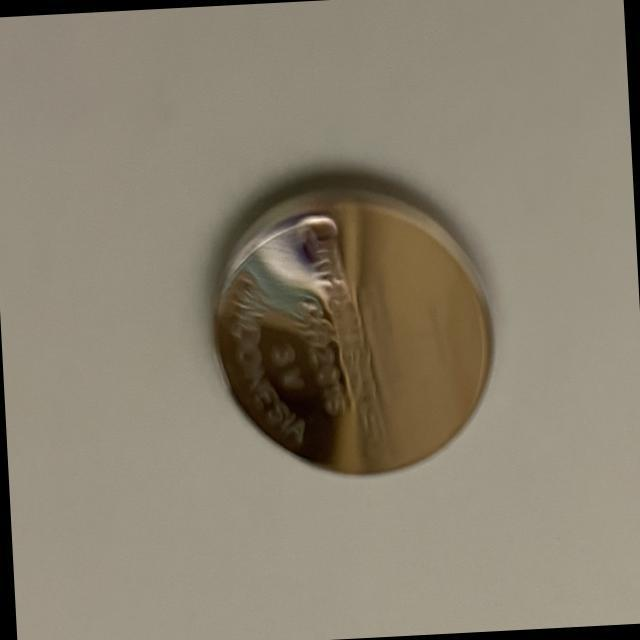COIN: (200, 166, 506, 489)
